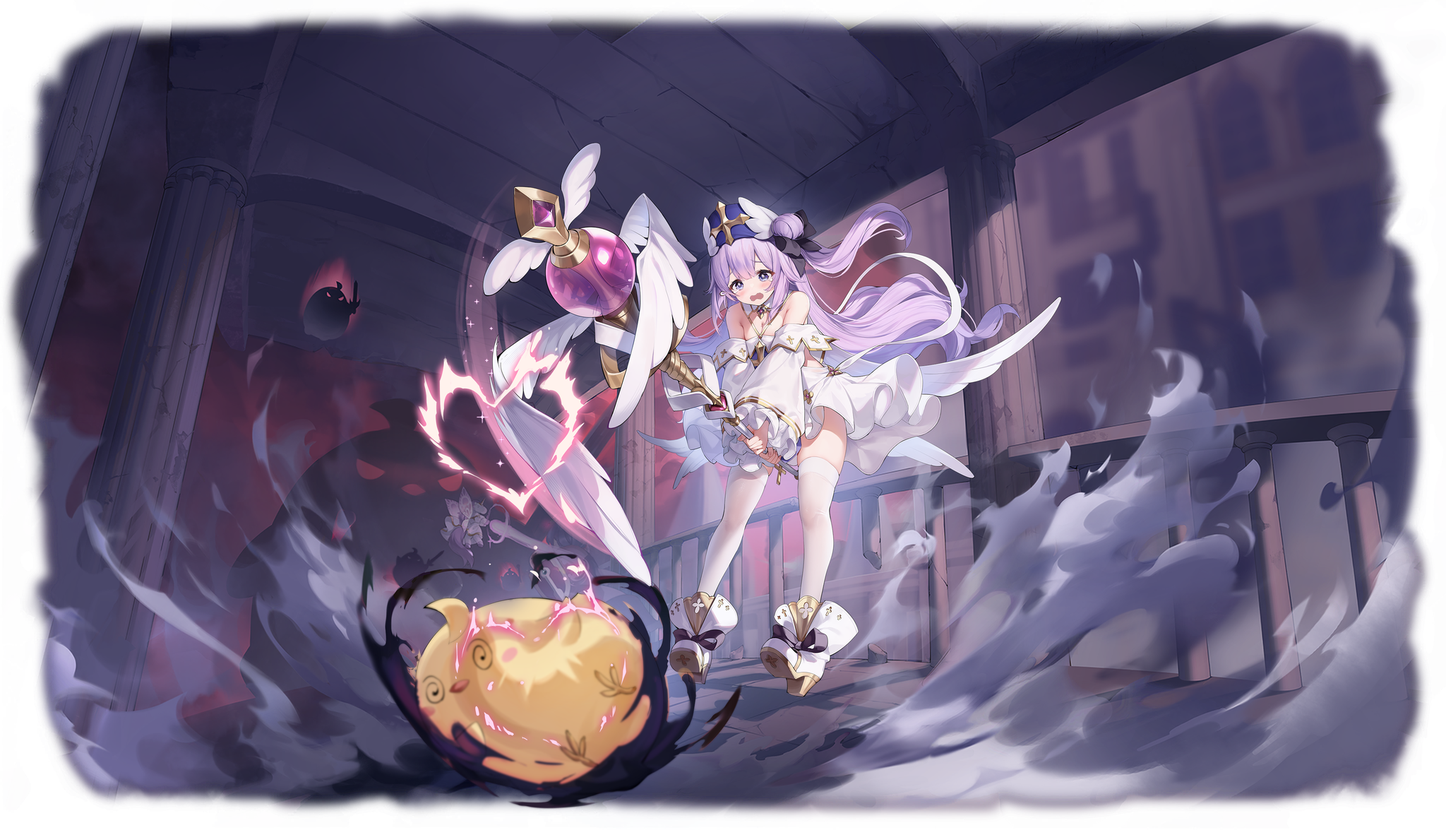person: (637, 181, 961, 715)
